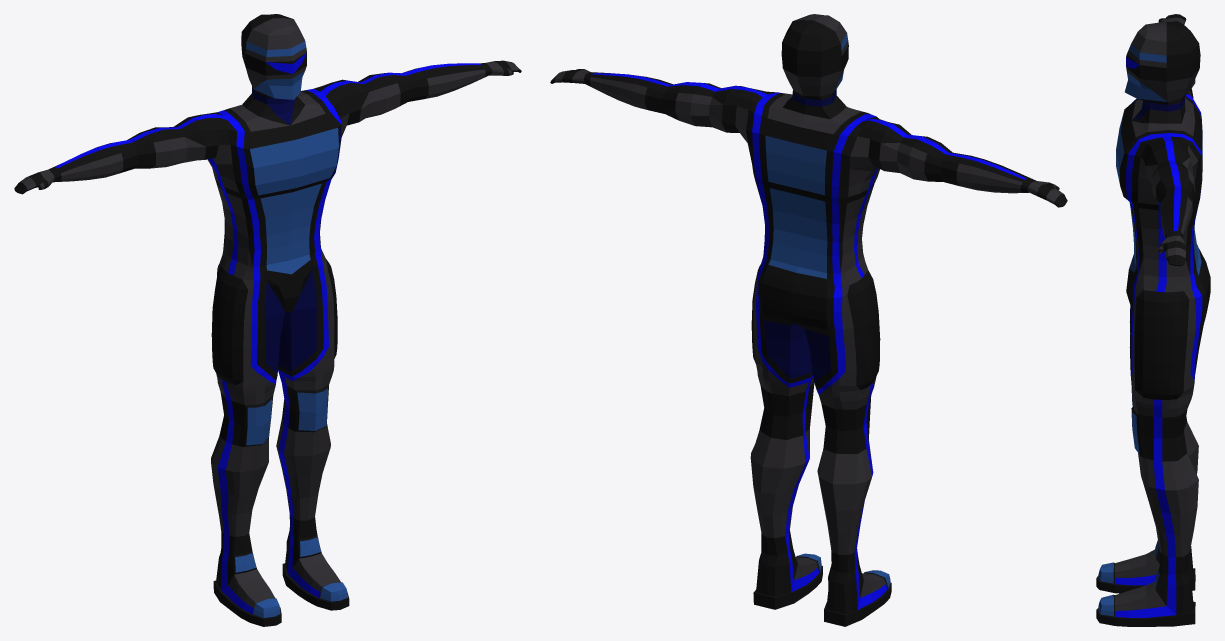
Rendered from AssaultClass_PlayerModel_Blue.obj.
The picture shows the model from 3 angles, left to right: view 1: azimuth 30°, elevation 25°; view 2: azimuth 150°, elevation 25°; view 3: azimuth 270°, elevation 25°; orthographic projection.
Parts seen in each view (by area): view 1: metarig_object_metarig_mesh; view 2: metarig_object_metarig_mesh; view 3: metarig_object_metarig_mesh.
Boxes of the visible parts, left/top/right/bottom form: metarig_object_metarig_mesh: left=14, top=14, right=521, bottom=626; metarig_object_metarig_mesh: left=550, top=14, right=1067, bottom=626; metarig_object_metarig_mesh: left=1096, top=14, right=1210, bottom=626.
Bounding box in the file's own units: 1.71 × 1.86 × 0.3361.
Materials: 1 (1 with a texture image).
